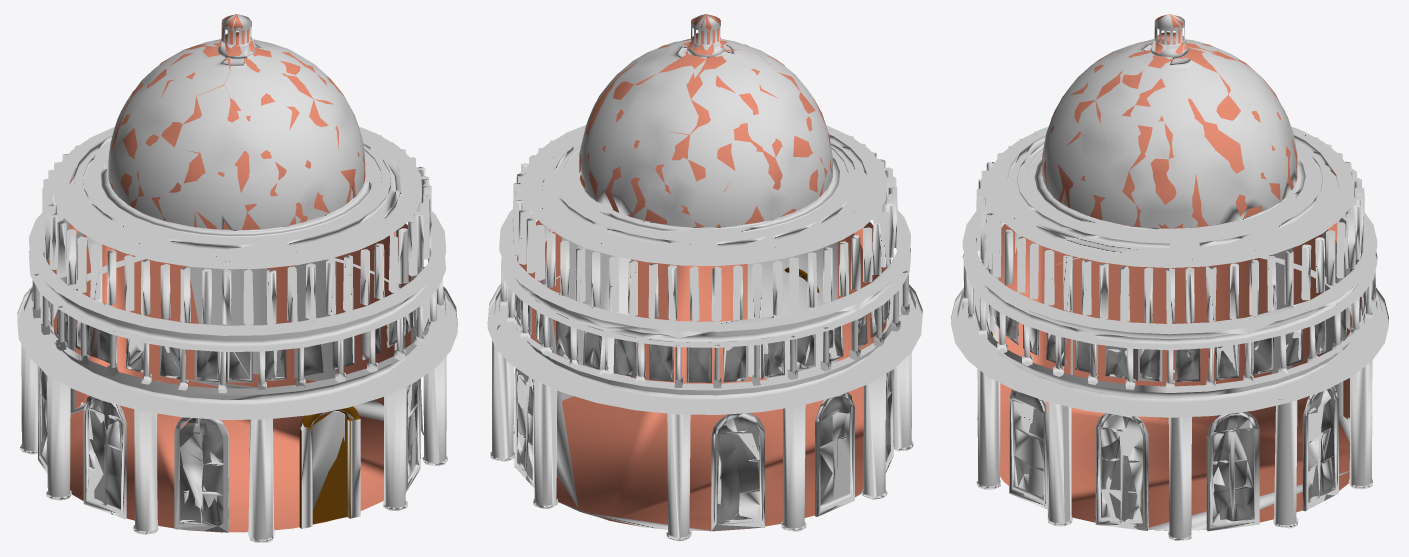
File: library_building.glb
The picture shows the model from 3 angles, left to right: view 1: azimuth 30°, elevation 25°; view 2: azimuth 150°, elevation 25°; view 3: azimuth 270°, elevation 25°; orthographic projection.
Visible parts, largest first — view 1: white, building, glass, brown for door; view 2: white, building, glass; view 3: white, building, glass.
Boxes of the visible parts, x1,y1,x2,y2 form: white: (17, 14, 457, 542); building: (46, 14, 420, 532); glass: (38, 301, 423, 532); brown for door: (299, 406, 360, 528); white: (487, 14, 922, 540); building: (517, 14, 888, 531); glass: (514, 296, 893, 530); white: (951, 14, 1388, 541); building: (998, 14, 1364, 530); glass: (989, 269, 1365, 530).
Bounding box in the file's own units: 333 × 367 × 337.
